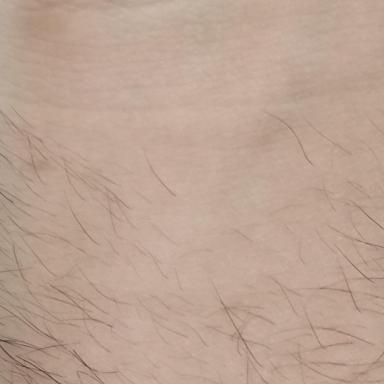normal skin: (2, 0, 384, 384)
